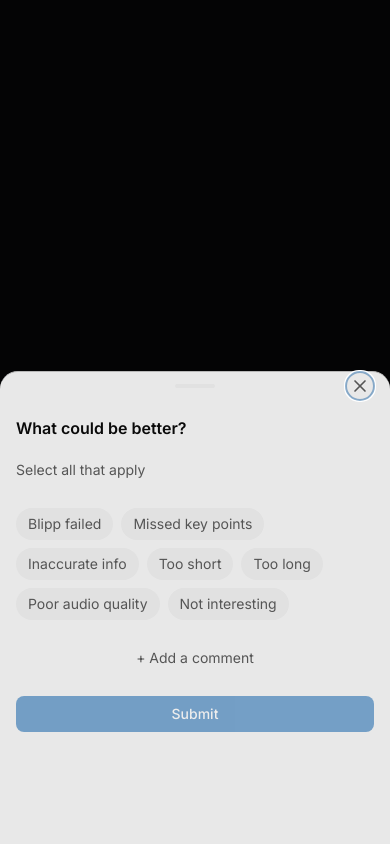
BlippFeedbackSheet › shows thank you message after submit
Click the button "Too short" at (190, 564), box top-left (147, 548), bottom-right (234, 580)
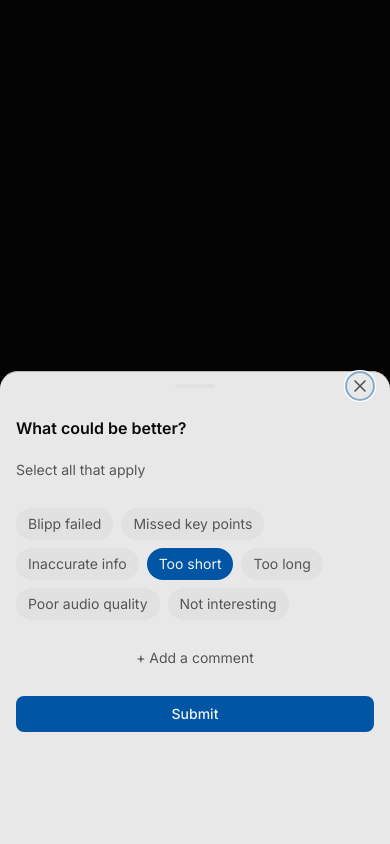
Click the button "Submit" at (195, 714), box top-left (16, 696), bottom-right (374, 732)
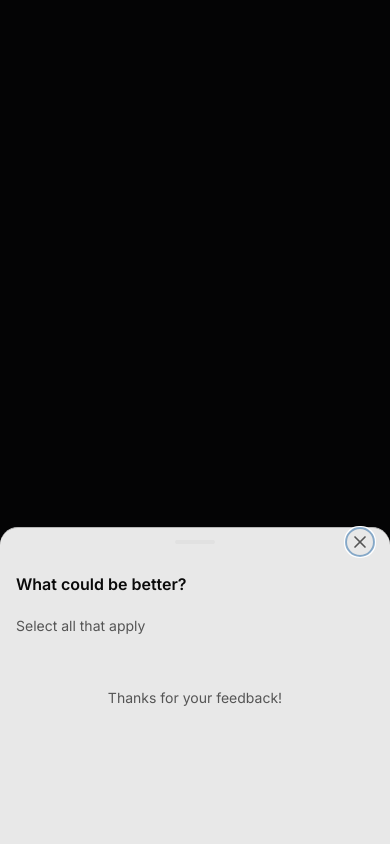
Result: the text "Thanks for your feedback!" is shown at top-left (108, 689), bottom-right (282, 706)
